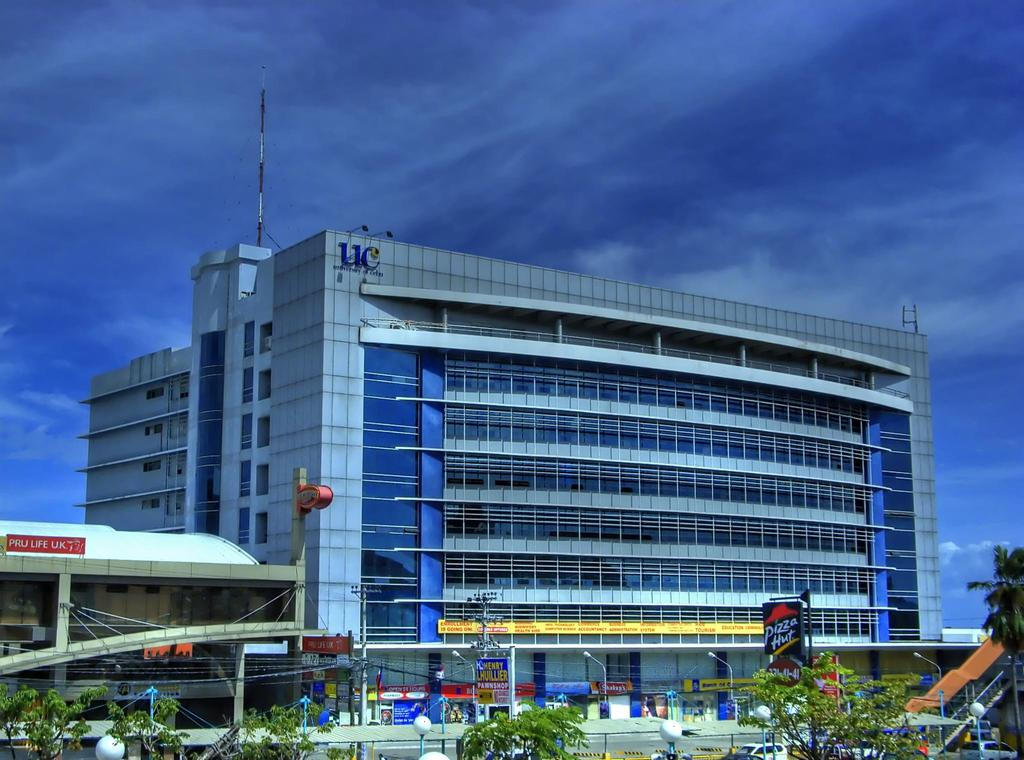Tree: (731, 650, 936, 760), (965, 541, 1024, 757), (460, 696, 594, 760), (0, 686, 105, 760), (225, 698, 348, 760), (104, 695, 194, 760)
